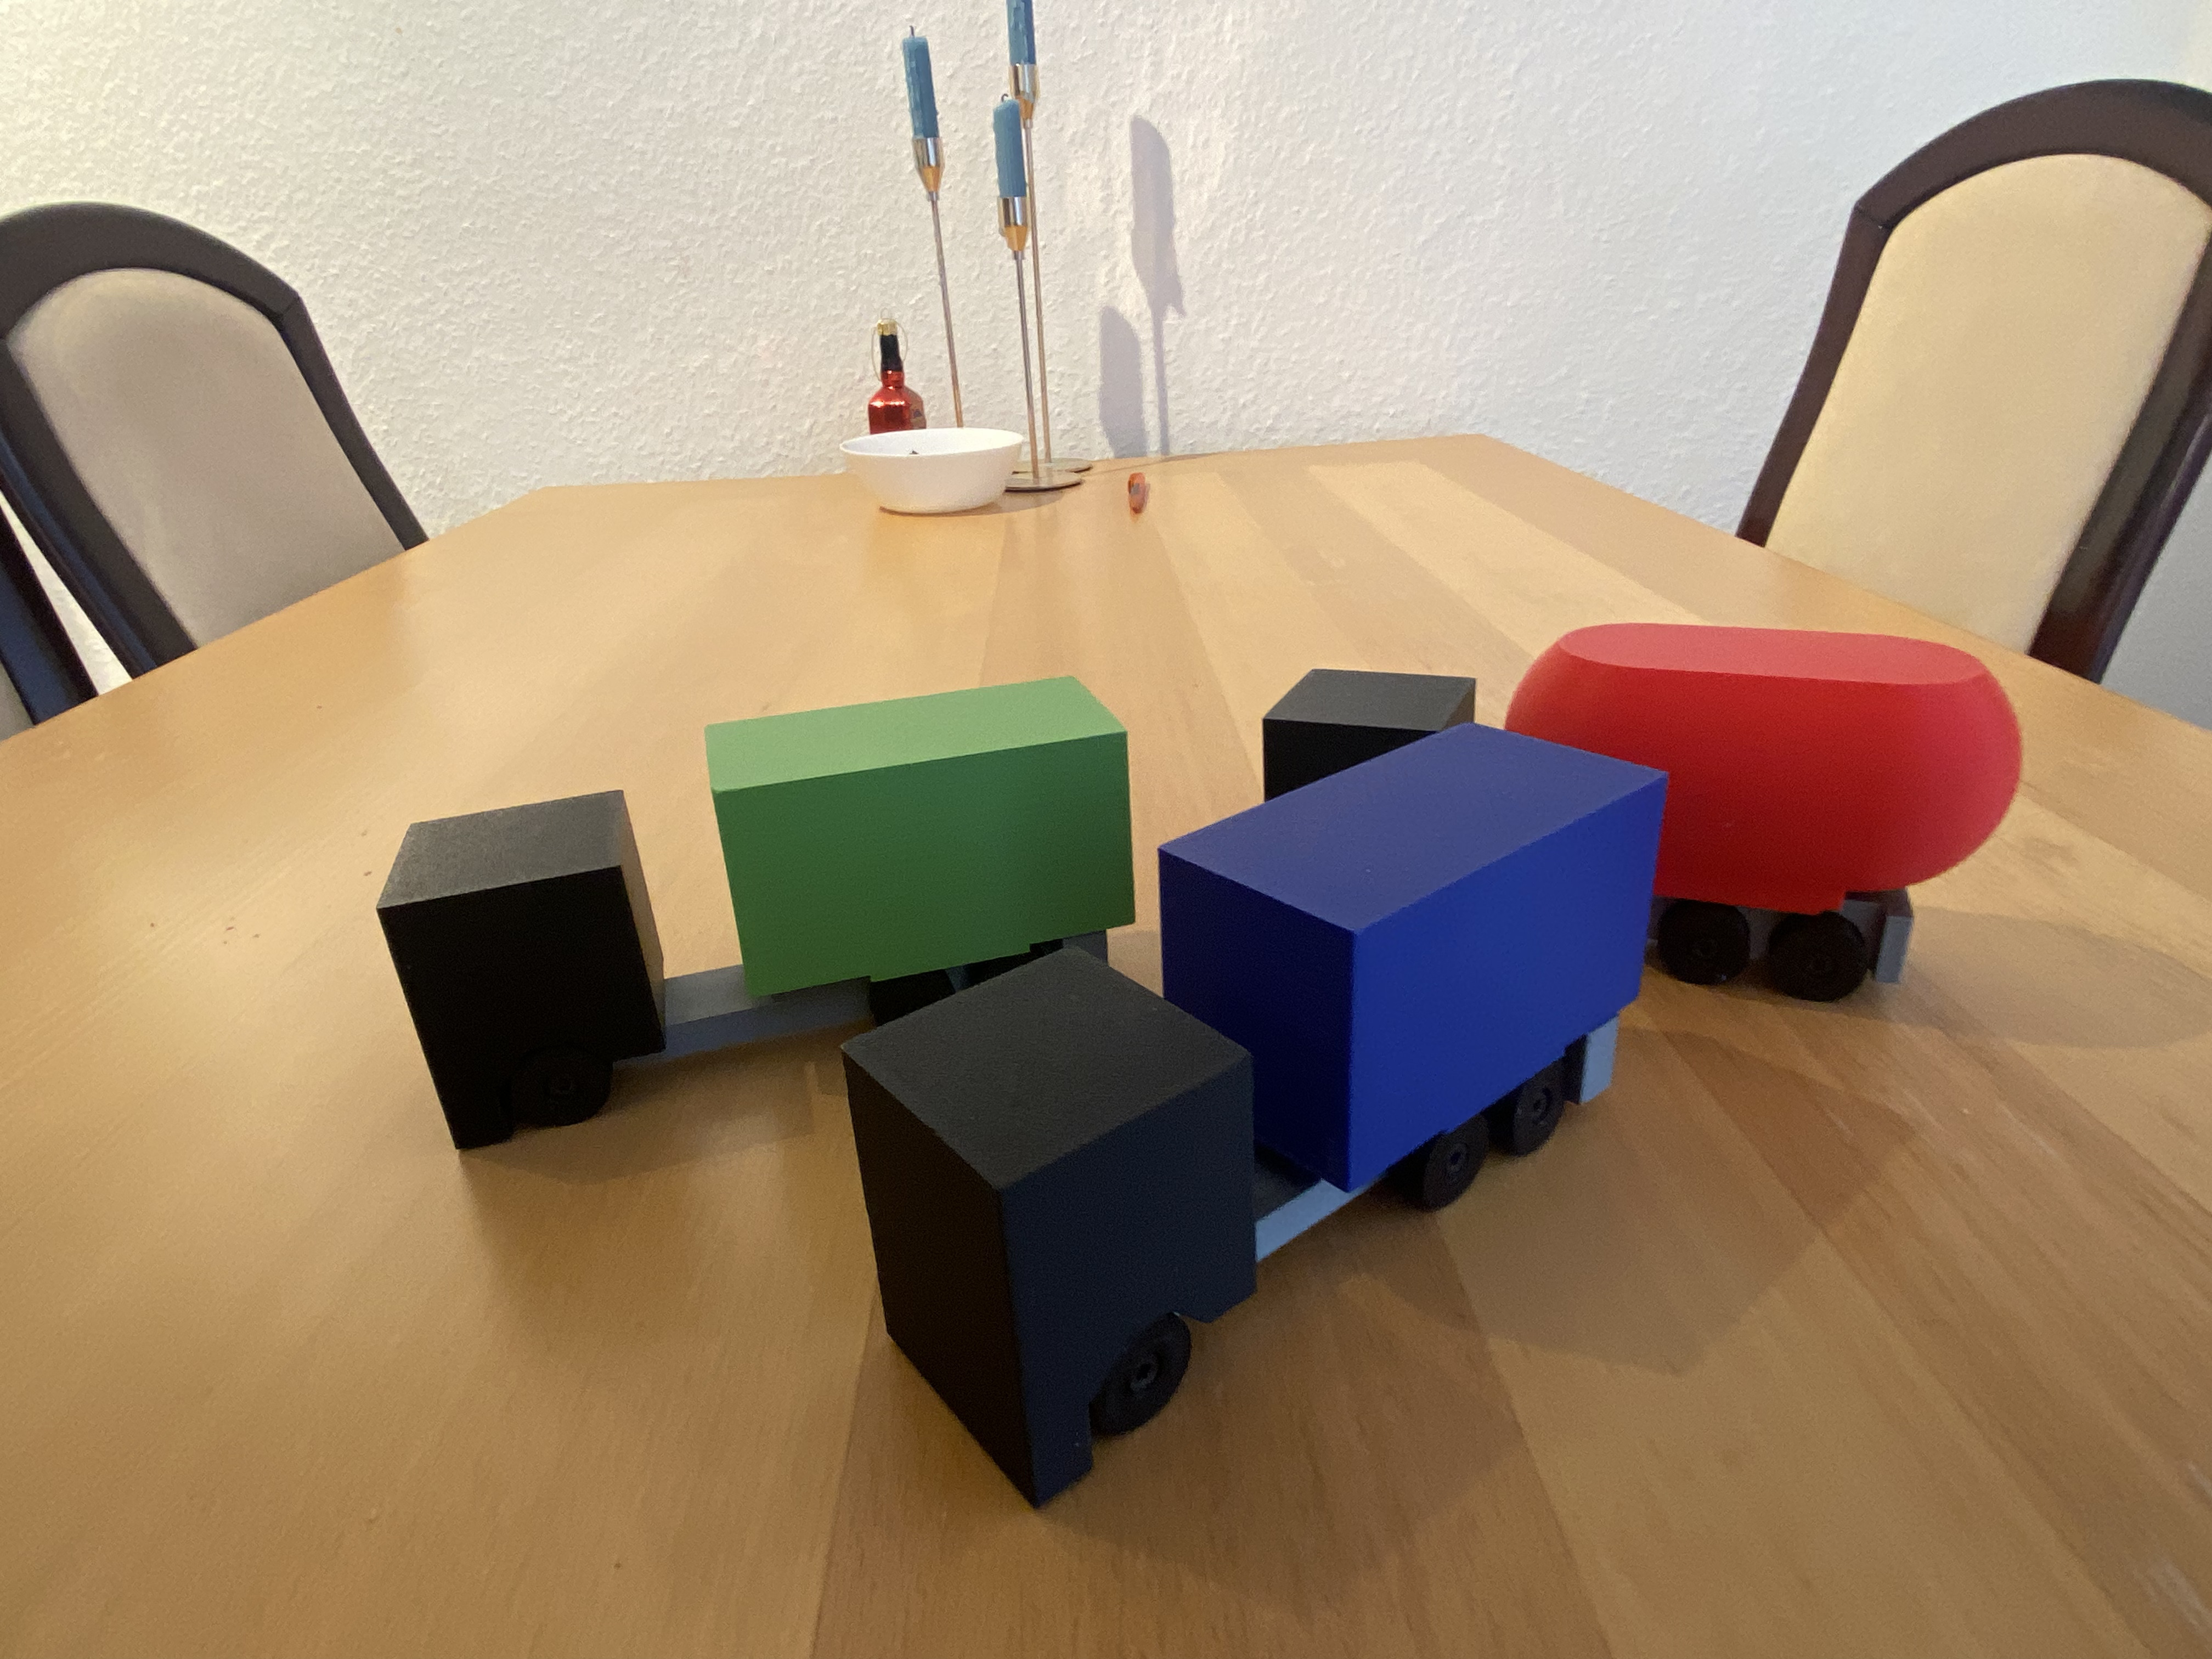blue_truck: (822, 805, 1764, 1351)
green_truck: (331, 727, 1172, 1108)
red_truck: (1254, 610, 2020, 985)
